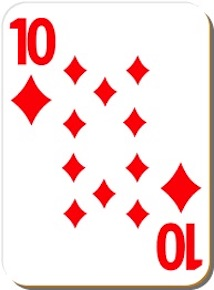TenOfDiamonds: (4, 2, 209, 277)
